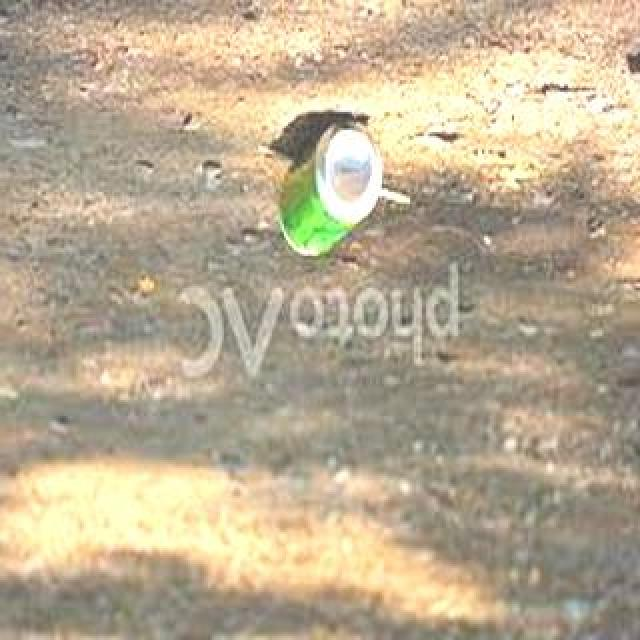Can: (274, 110, 394, 256)
